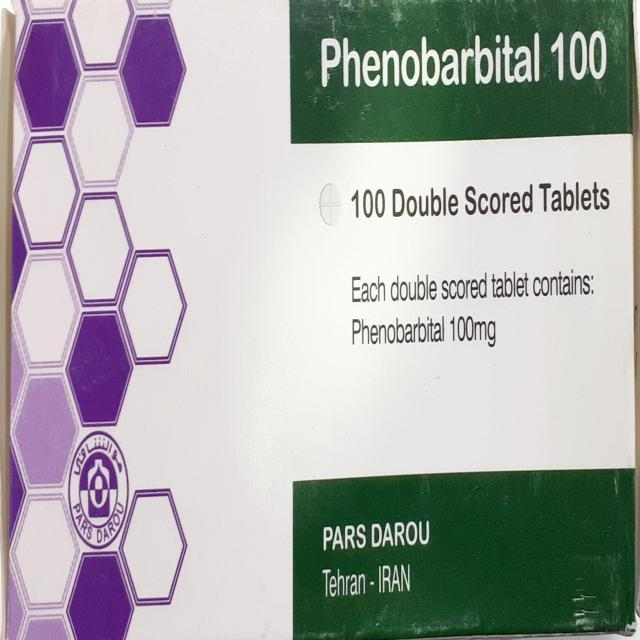drug-name: (316, 27, 610, 90)
